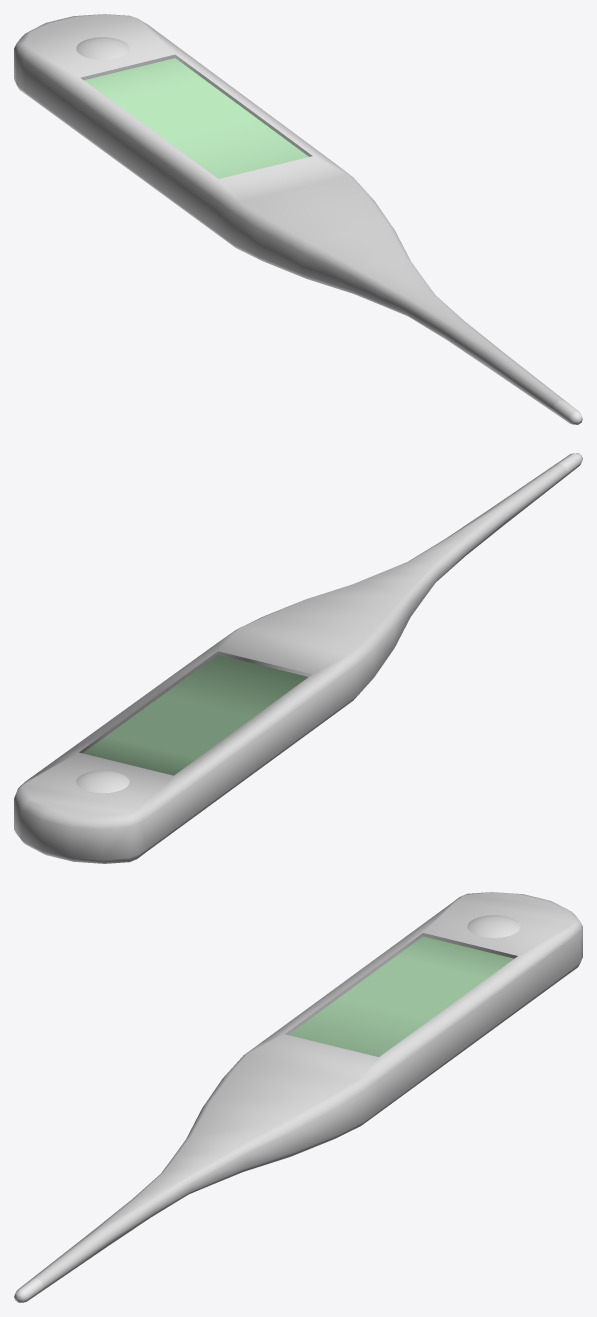
File: thermometer.fbx
The picture shows the model from 3 angles, top to bottom: view 1: azimuth 30°, elevation 25°; view 2: azimuth 150°, elevation 25°; view 3: azimuth 330°, elevation 25°; orthographic projection.
Parts seen in each view (by area): view 1: uploads_files_3163125_thermometer; view 2: uploads_files_3163125_thermometer; view 3: uploads_files_3163125_thermometer.
Part boxes in pixels (bbox=[...]): uploads_files_3163125_thermometer: bbox=[14, 14, 582, 424]; uploads_files_3163125_thermometer: bbox=[14, 453, 582, 863]; uploads_files_3163125_thermometer: bbox=[14, 892, 582, 1302].
Size of the model in its own units: 89.6 by 35.95 by 650.
